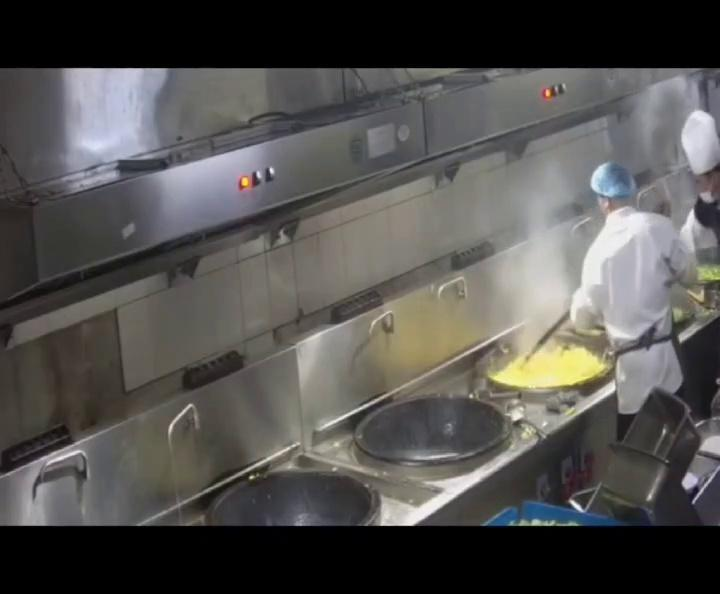gloves: (585, 158, 640, 198)
